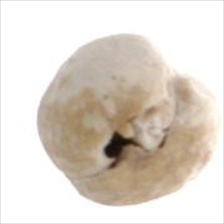L3: (112, 98, 174, 155)
L4: (36, 33, 218, 207)
